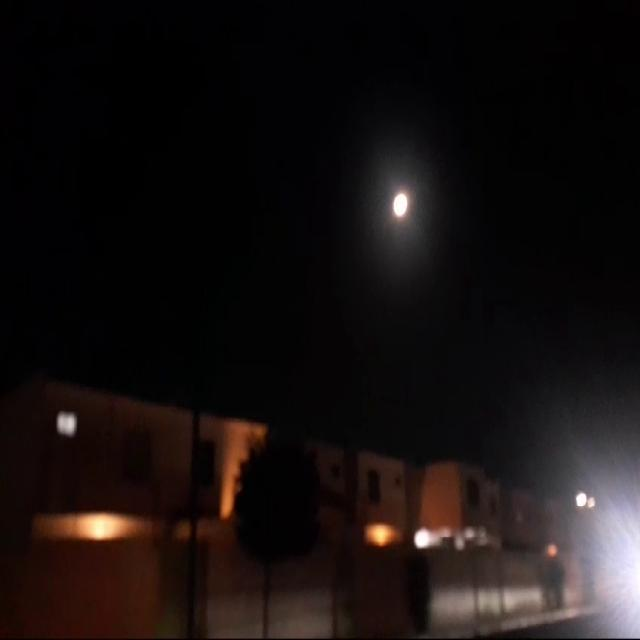moon: (391, 191, 410, 225)
